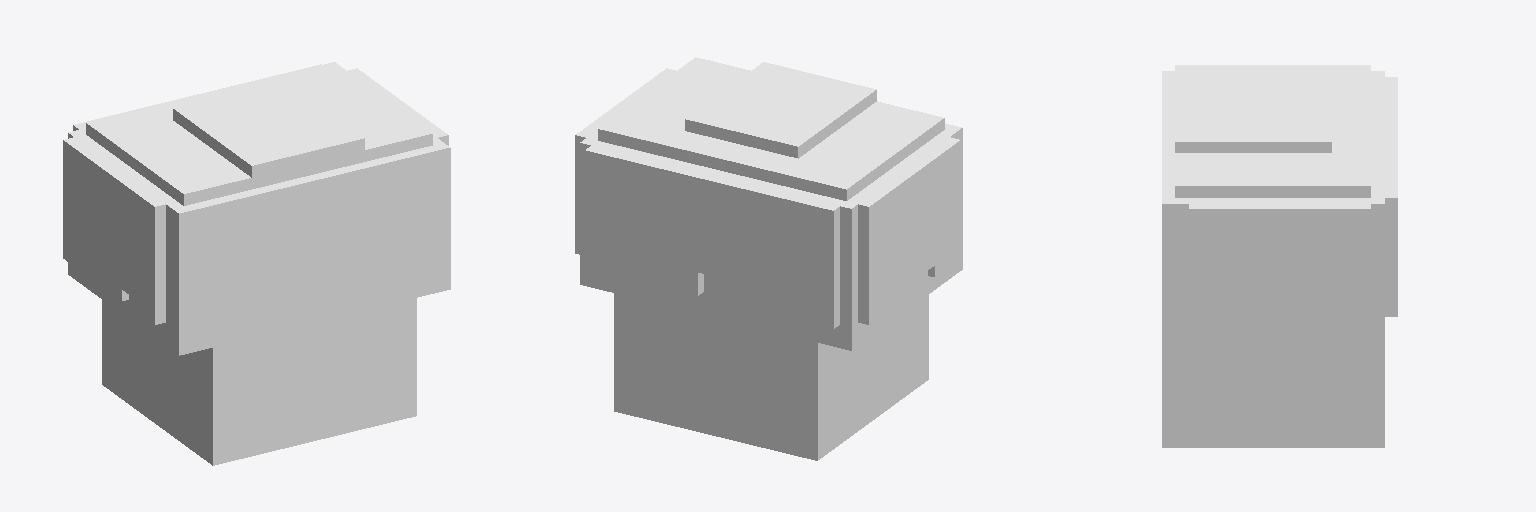
The model's file is Character-15-Chest.obj.
3 renders of one model, left to right at view 1: azimuth 30°, elevation 25°; view 2: azimuth 150°, elevation 25°; view 3: azimuth 270°, elevation 25°, orthographic.
Visible parts, largest first — view 1: Chest; view 2: Chest; view 3: Chest.
Boxes of the visible parts, x1,y1,x2,y2 form: Chest: [63, 62, 450, 465]; Chest: [575, 57, 962, 460]; Chest: [1162, 65, 1397, 447].
Size of the model in its own units: 2.6 by 2.4 by 1.8.